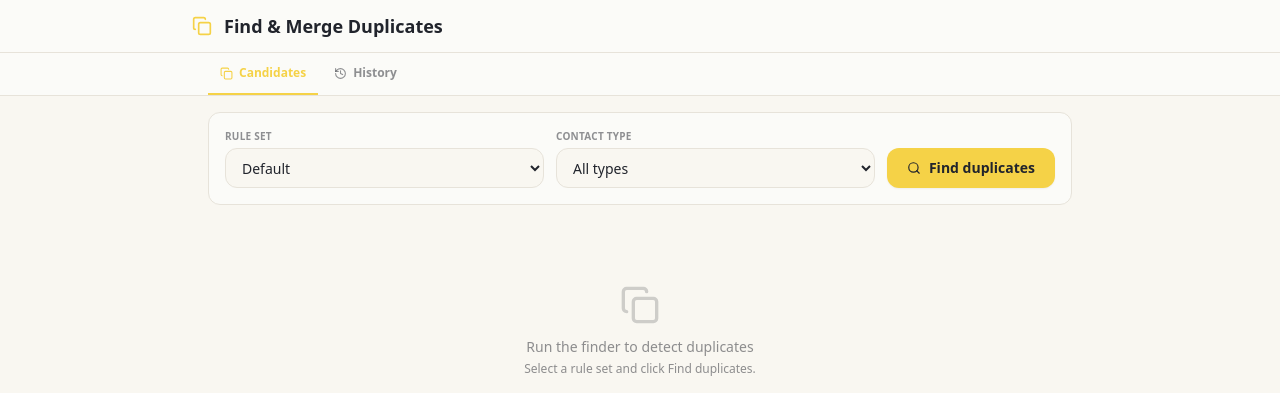
it: DuplicatesPage › shows EmptyState when no candidates returned
Step 1. Click the button "Find duplicates" → click(971, 168), box x1=887 y1=148 x2=1055 y2=188
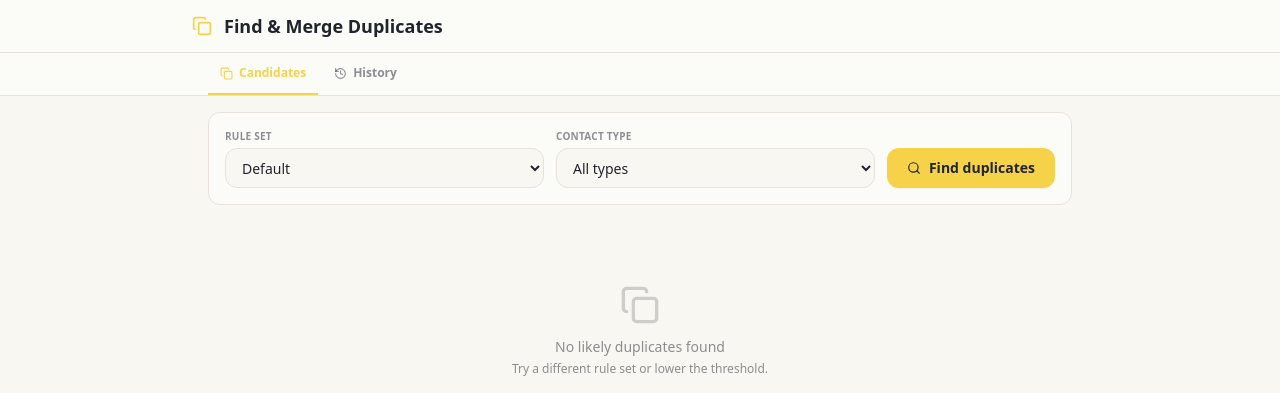
Now the text "No likely duplicates found" is shown, box x1=555 y1=337 x2=725 y2=357
